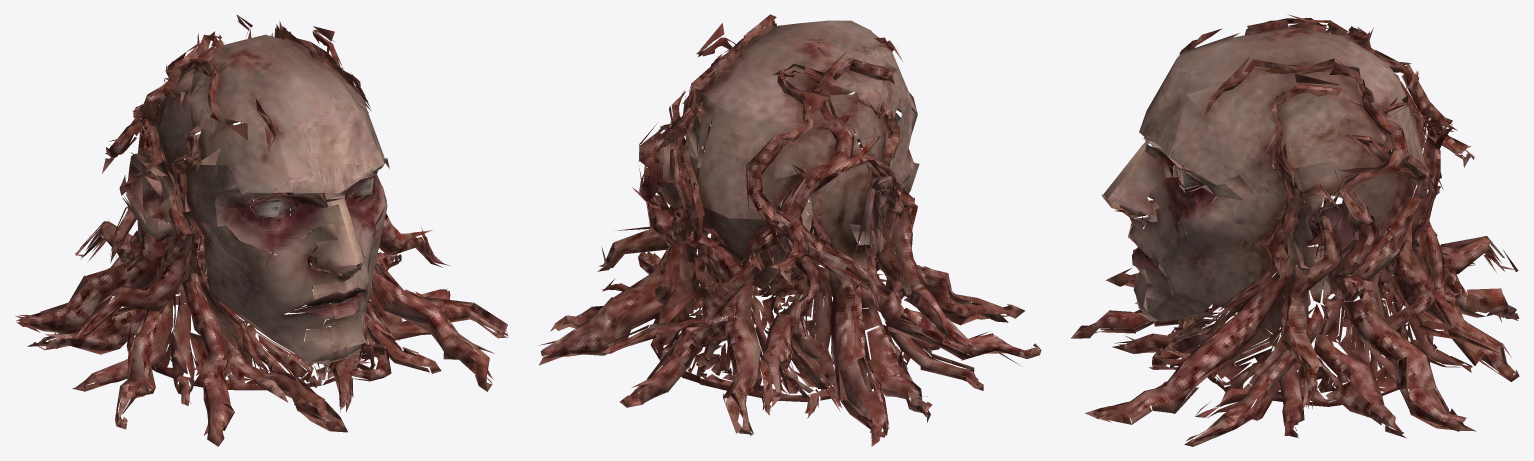
The model's file is m_rootedhead.glb.
3 views of the same model, side by side, from view 1: azimuth 30°, elevation 25°; view 2: azimuth 150°, elevation 25°; view 3: azimuth 270°, elevation 25° (orthographic). The views are drawn at different scales.
Visible parts, largest first — view 1: bbb34b67_0045_406f_97d0_8d249b019aeb; view 2: bbb34b67_0045_406f_97d0_8d249b019aeb; view 3: bbb34b67_0045_406f_97d0_8d249b019aeb.
Part boxes in pixels (x1,y1,x2,y2): bbb34b67_0045_406f_97d0_8d249b019aeb: (15,15,508,446); bbb34b67_0045_406f_97d0_8d249b019aeb: (538,14,1041,446); bbb34b67_0045_406f_97d0_8d249b019aeb: (1071,14,1519,446).
Bounding box in the file's own units: 0.999 × 0.7436 × 0.9512.
1 material, 1 textured.
